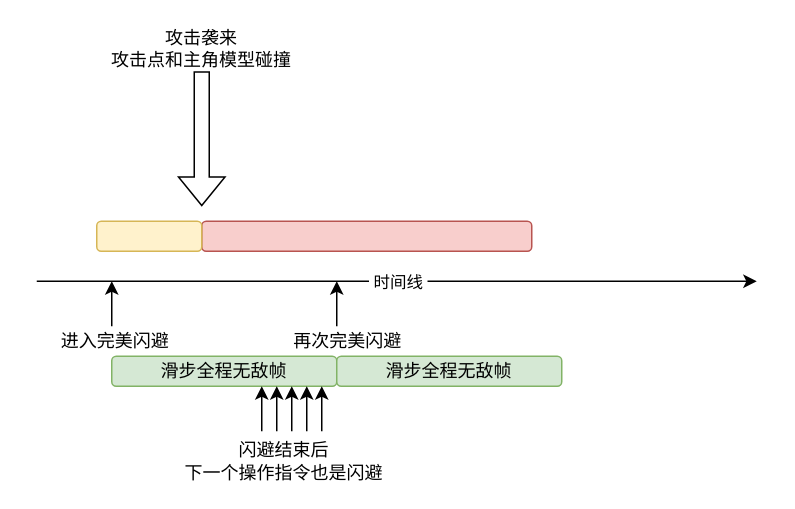
This 795x509 diagram has some shape labels left out. The centre of each missing label's shape, as x and y in pixels:
"攻击判定" goes at pixel 366 235.
"预判" goes at pixel 148 235.
